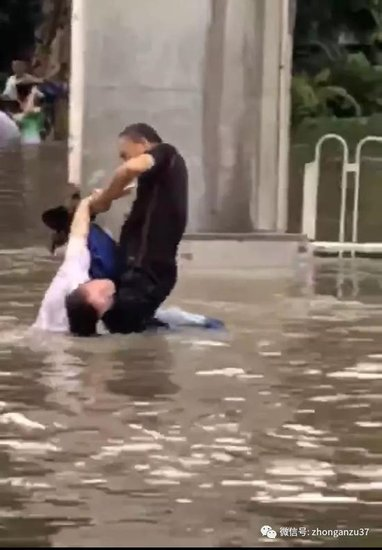fall: (18, 189, 126, 343)
